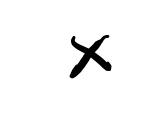mult: (70, 35, 112, 79)
